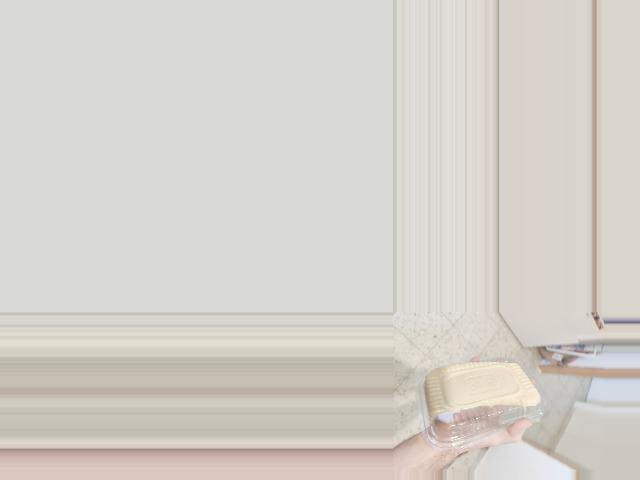cheese: (408, 372, 515, 425)
